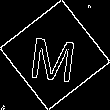M_N: (29, 27, 81, 83)
